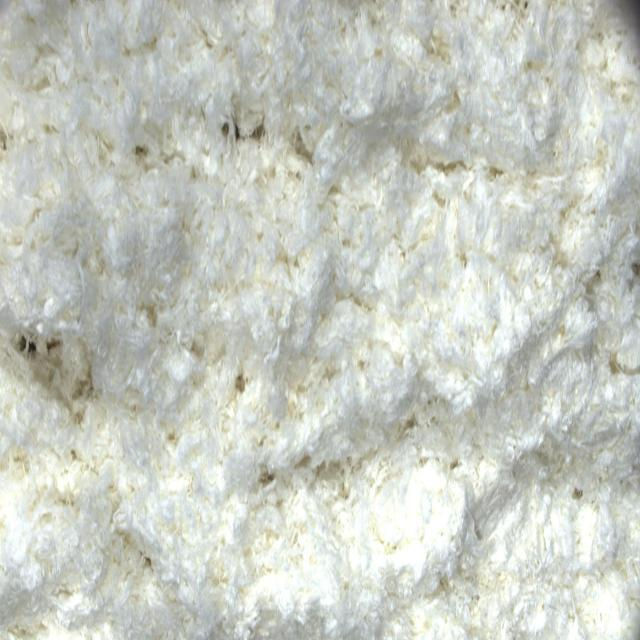dust: (14, 327, 67, 376), (217, 111, 276, 154)
